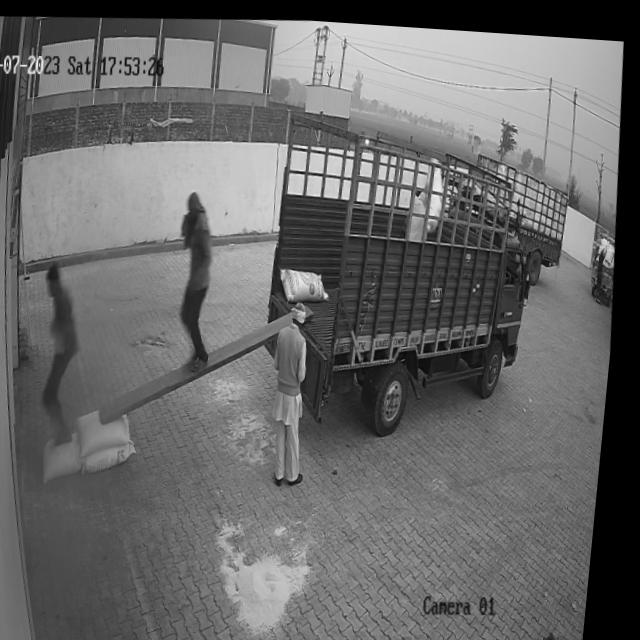sack: (81, 406, 141, 457), (282, 260, 337, 303), (49, 432, 95, 482), (90, 437, 146, 472)
